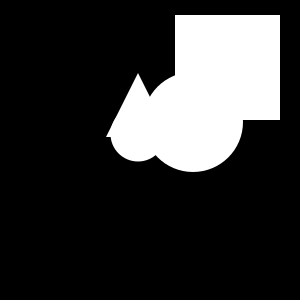circle: (175, 15, 280, 120)
rectangle: (143, 72, 243, 172), (110, 106, 166, 162)
triangle: (106, 73, 170, 137)
